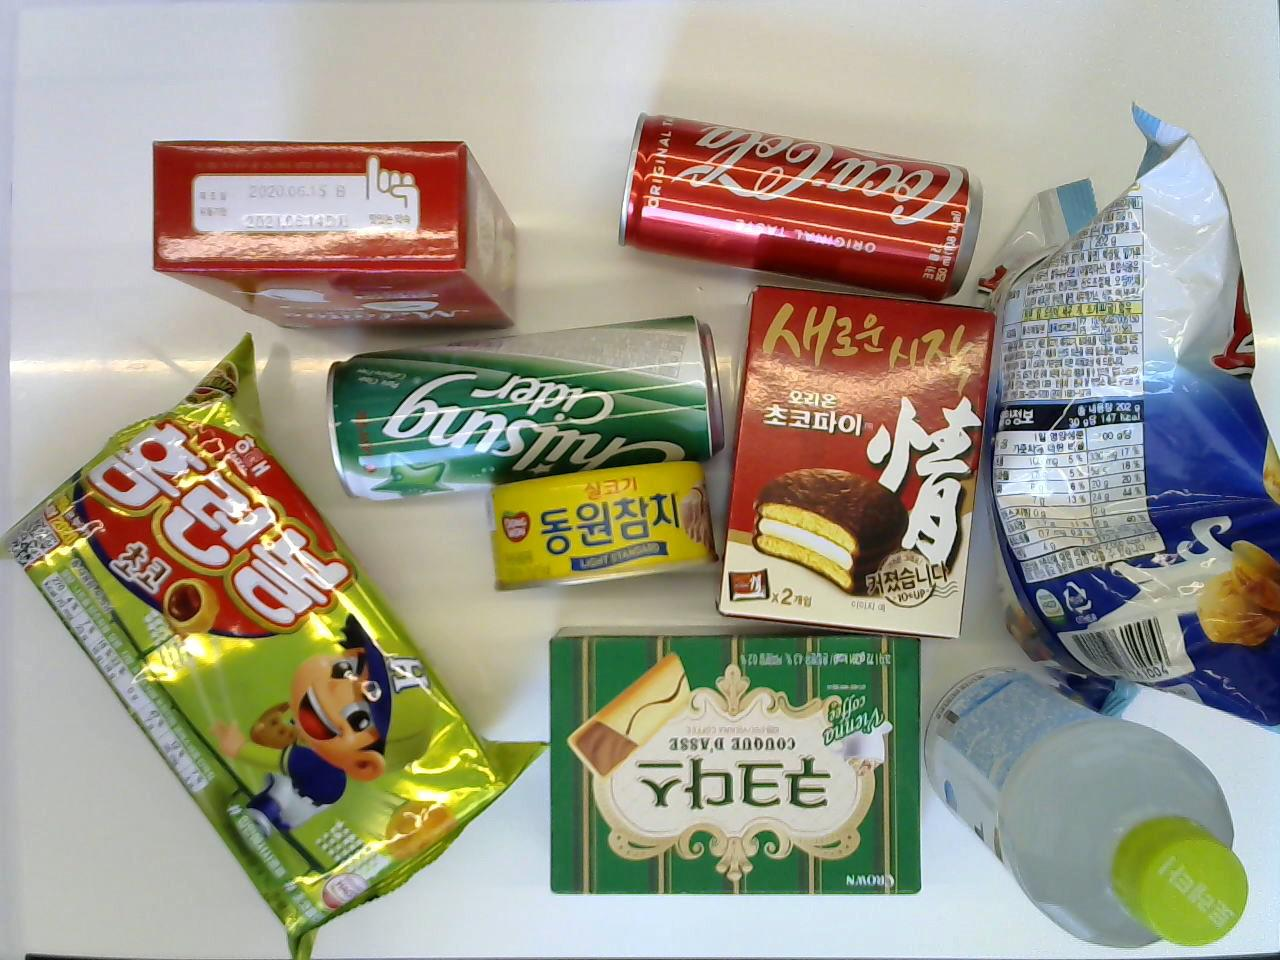chocopie: (715, 280, 1001, 641)
cidar: (315, 311, 726, 502)
coke: (614, 109, 990, 303)
couque_coffee: (545, 625, 926, 898)
couque_white: (147, 131, 525, 339)
homerunball: (0, 332, 547, 960)
squid_peanut: (981, 102, 1280, 738)
toreta: (923, 661, 1253, 951)
tuna: (483, 457, 719, 594)
